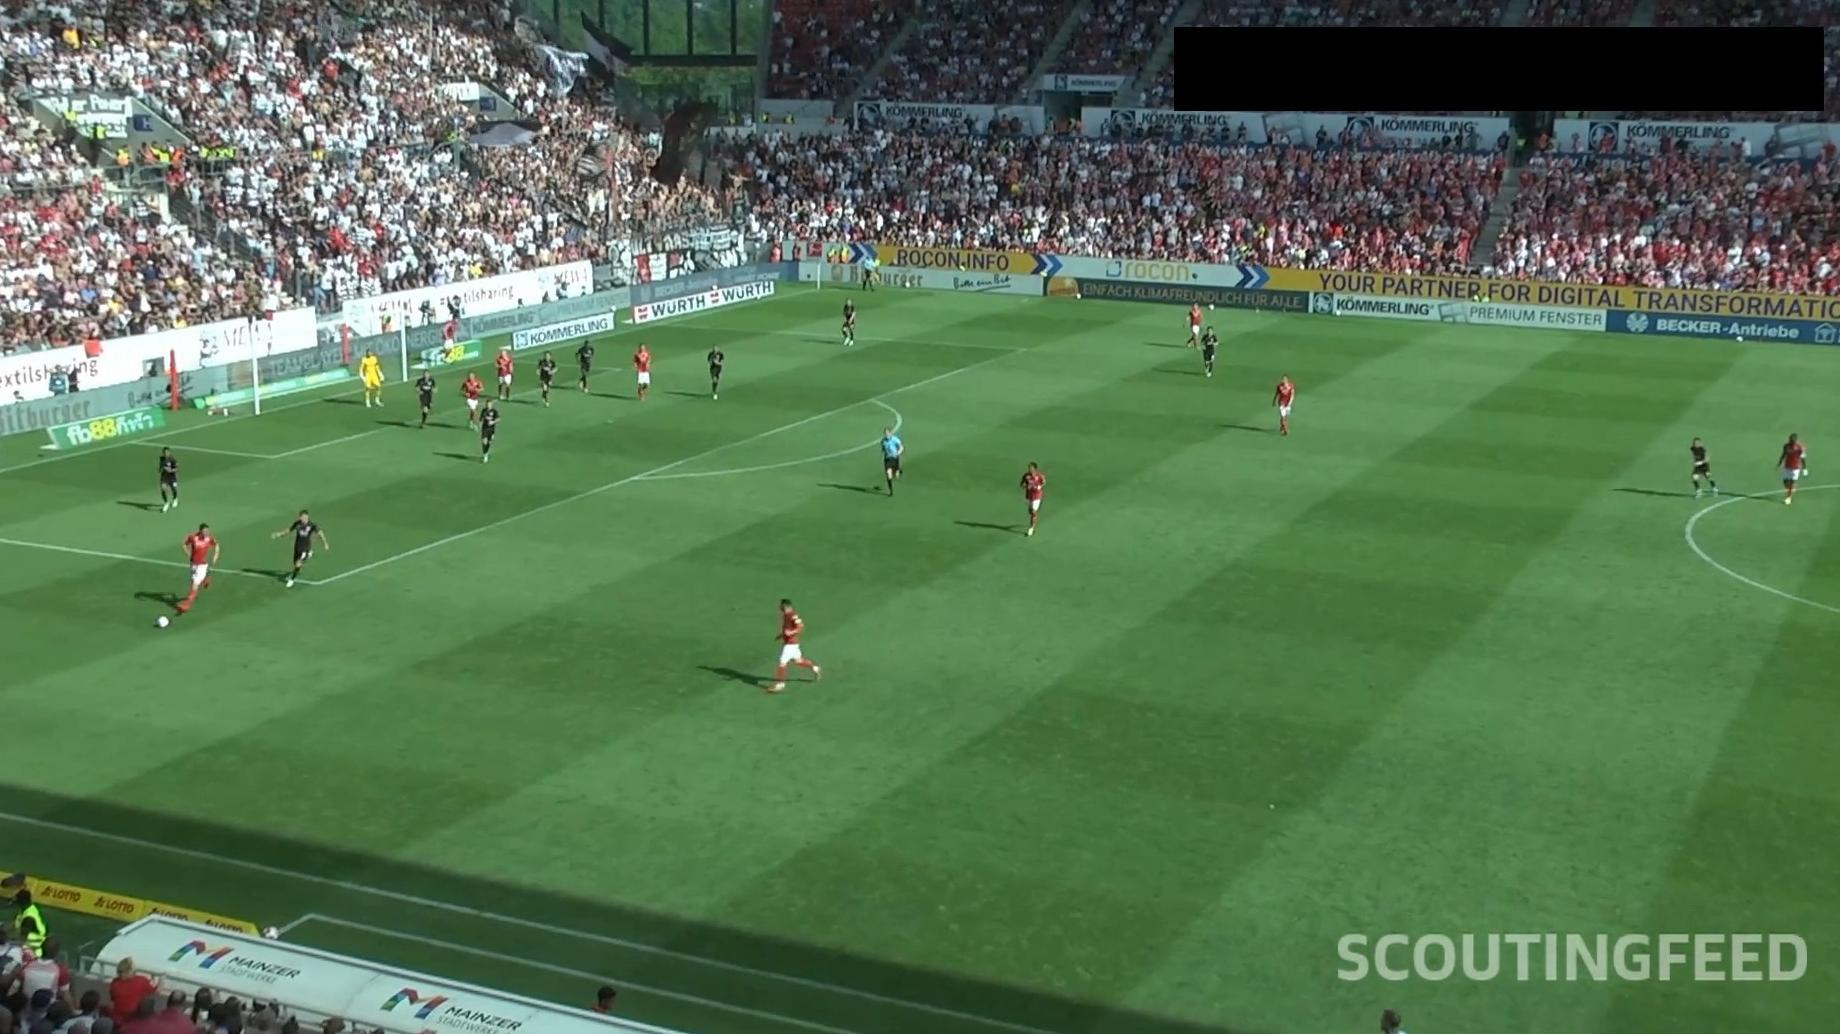ball: (155, 614, 169, 630)
